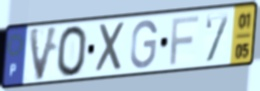7: (204, 11, 231, 64)
F: (168, 14, 201, 67)
G: (128, 18, 159, 70)
O: (55, 24, 89, 79)
V: (27, 24, 61, 84)
X: (94, 20, 128, 76)
